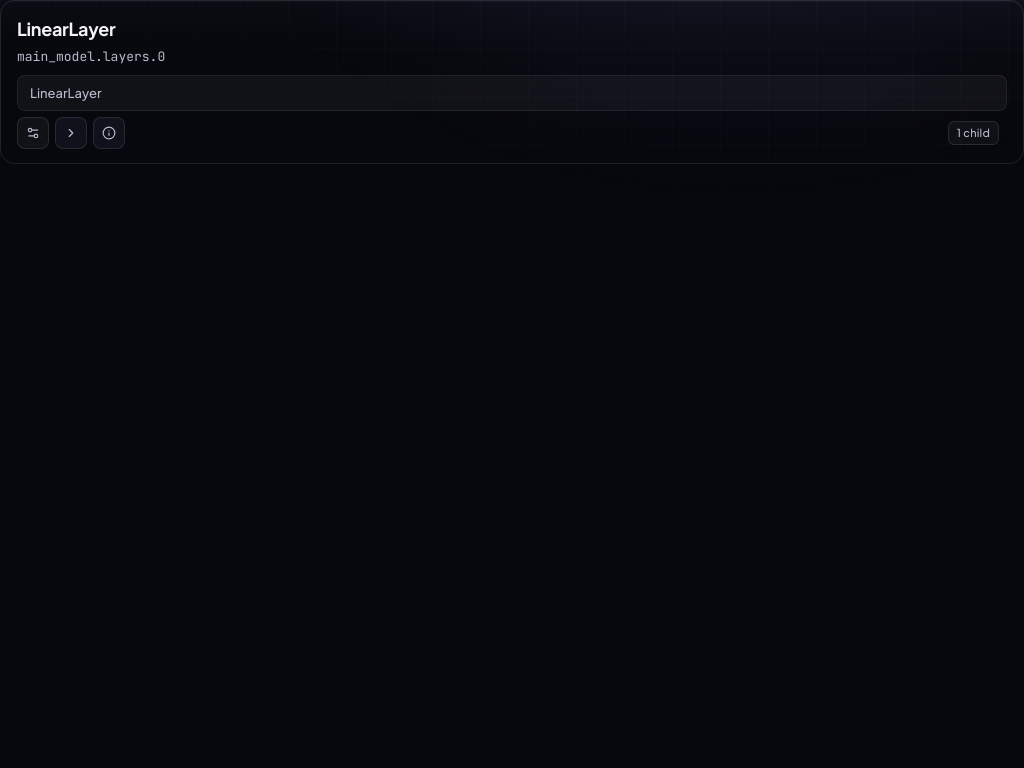
it: GraphNodeView › opens component info from the graph cell footer
The width and height of the screenshot is (1024, 768).
Click the button named "open component info for main_model.layers.0.model". click: x=109, y=133
box: x1=93 y1=117 x2=125 y2=149
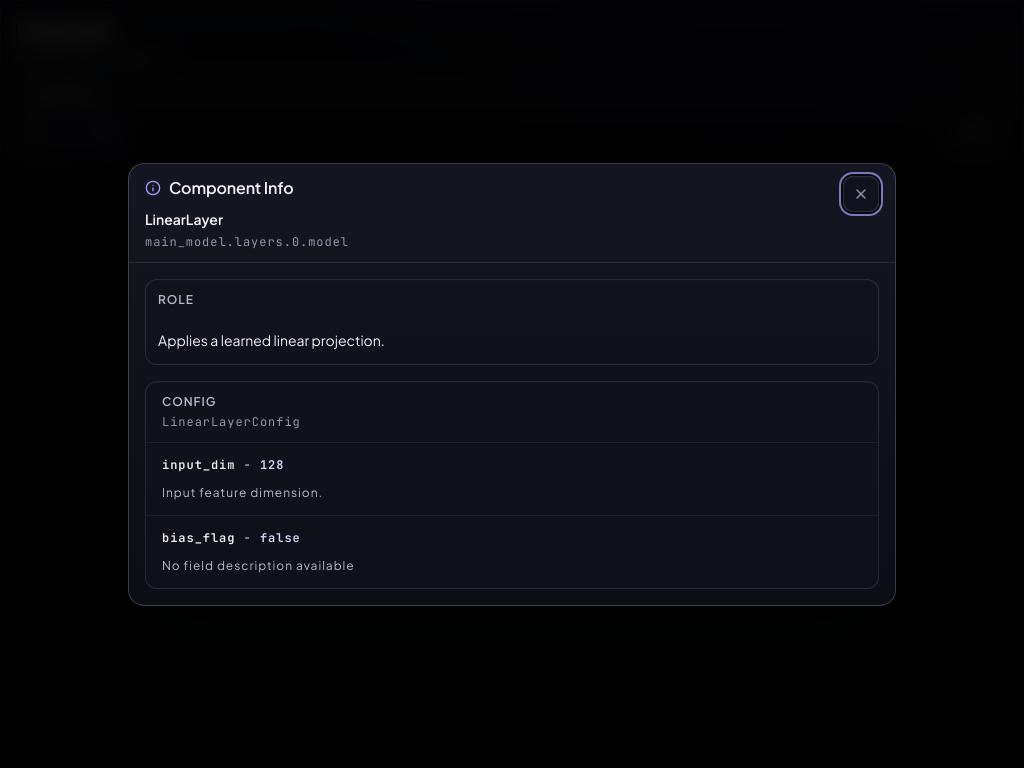
Expected: the text "LinearLayer" is shown, x1=145 y1=210 x2=223 y2=228
Expected: the text "main_model.layers.0.model" is shown, x1=145 y1=234 x2=349 y2=250
Expected: the text "Applies a learned linear projection." is shown, x1=158 y1=330 x2=385 y2=348
Click the button named "Close component info". click: x=861, y=194
box: x1=843 y1=176 x2=879 y2=212
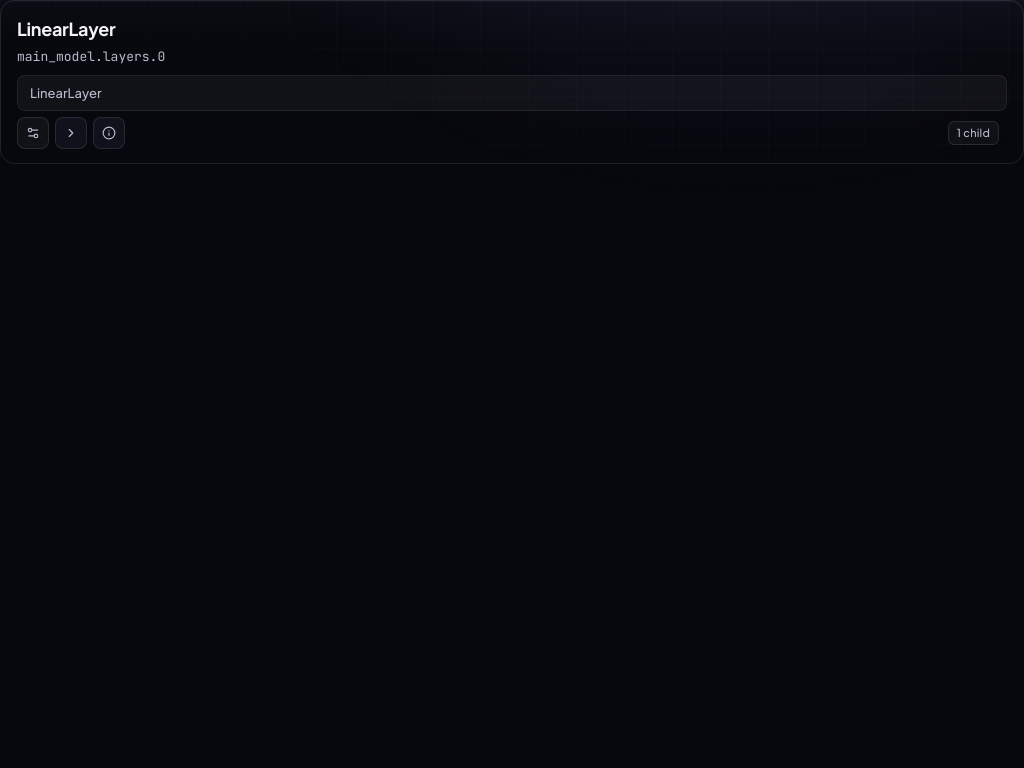
Expected: the text "Component Info" is gone
